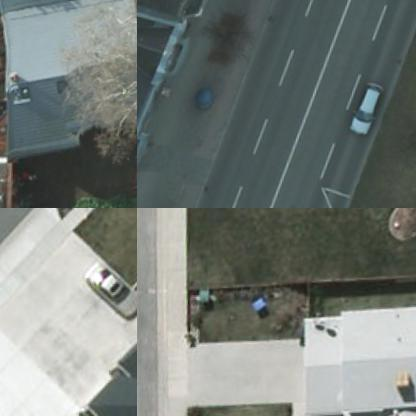car: (82, 261, 136, 320), (346, 86, 381, 140)
